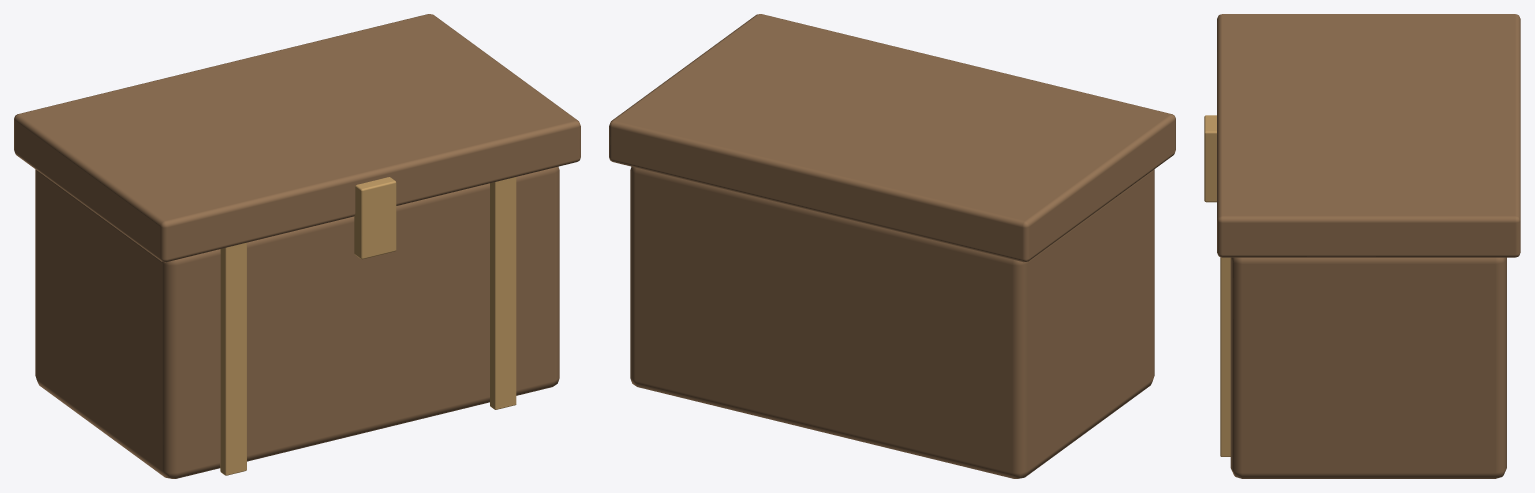
The model's file is fantasy-bathhouse-and-thermal-sanctuary-fantasy-bathho-07f3f0fc__29459.glb.
The picture shows the model from 3 angles, left to right: view 1: azimuth 30°, elevation 25°; view 2: azimuth 150°, elevation 25°; view 3: azimuth 270°, elevation 25°; orthographic projection.
Parts seen in each view (by area): view 1: fantasy-bathhouse-and-thermal-sanctuary-clothes-chest; view 2: fantasy-bathhouse-and-thermal-sanctuary-clothes-chest; view 3: fantasy-bathhouse-and-thermal-sanctuary-clothes-chest.
Part boxes in pixels (x1,y1,x2,y2): fantasy-bathhouse-and-thermal-sanctuary-clothes-chest: [14, 14, 580, 478]; fantasy-bathhouse-and-thermal-sanctuary-clothes-chest: [609, 14, 1175, 478]; fantasy-bathhouse-and-thermal-sanctuary-clothes-chest: [1204, 14, 1520, 478].
Size of the model in its own units: 1.06 by 0.65 by 0.6875.
